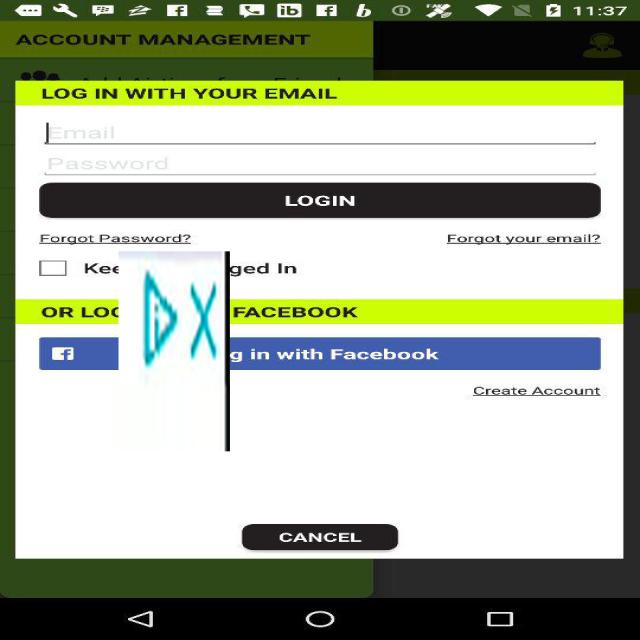sneaking: (118, 252, 230, 452)
